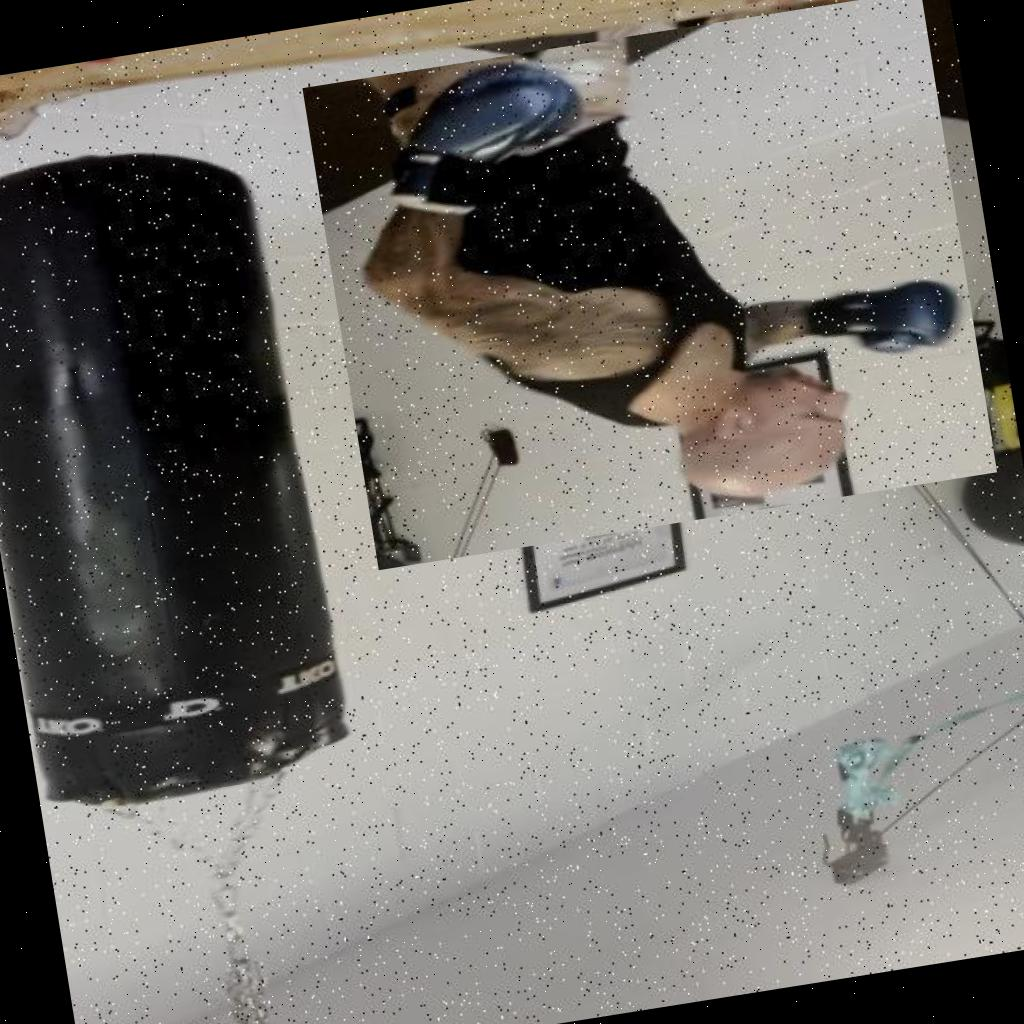bag: (0, 118, 395, 823)
uppercut: (302, 0, 997, 569)
